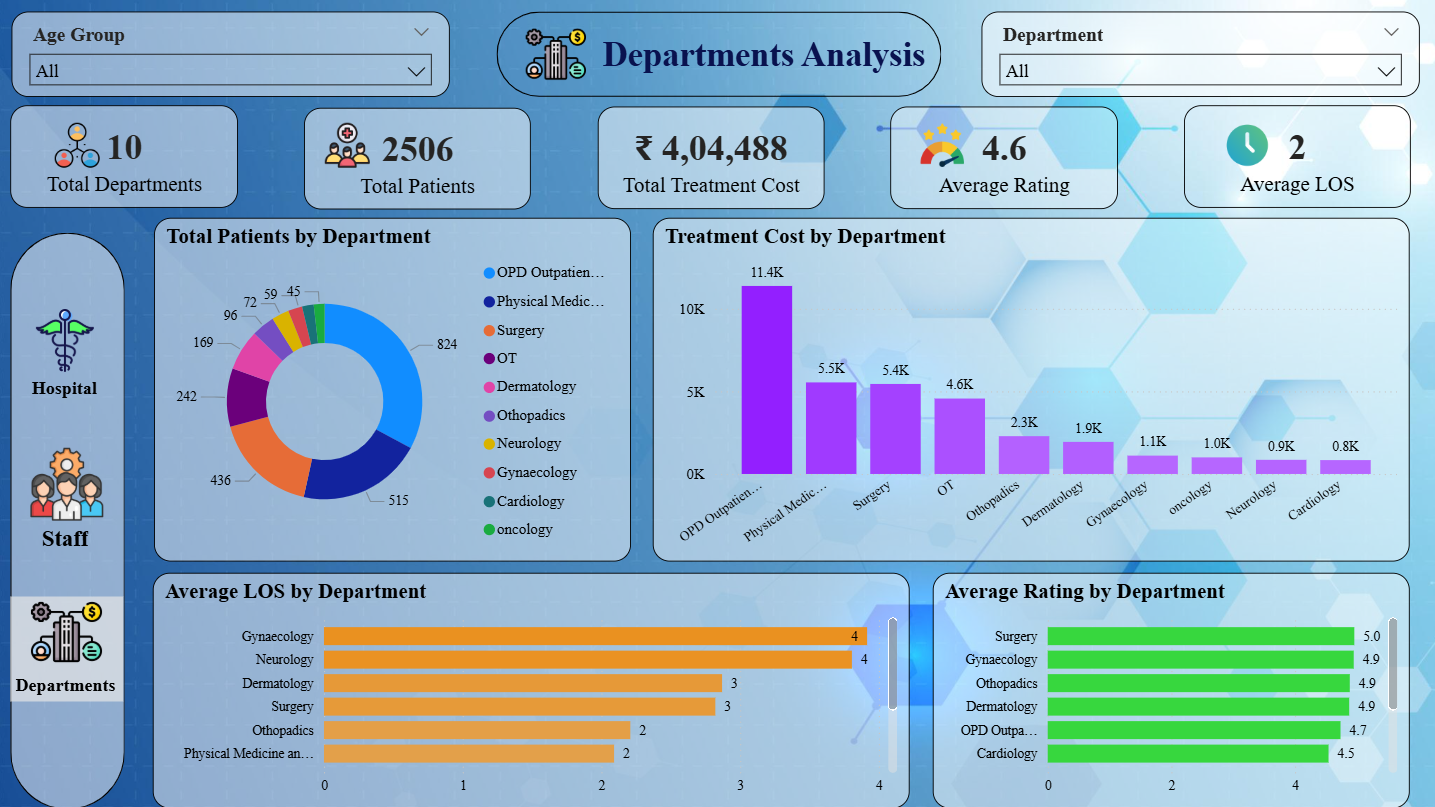

Layout of this report page (visuals, bound fields, positions):
{"tool":"powerbi","page":{"name":"Departments Analysis","canvas":[1280,720],"ordinal":2},"visuals":[{"type":"shape","box":[442.2,10.7,395.6,75.8],"z":0,"group":"g5"},{"type":"group","id":"g1","title":"Group 2","box":[8.9,207.3,102.4,512.8],"z":0},{"type":"shape","box":[9.5,207.3,101.9,512.8],"z":0,"group":"g1"},{"type":"shape","box":[9.5,331.6,98.3,29.6],"z":0,"group":"g3"},{"type":"card","fields":{"Values":["Measure.Total Patients"]},"box":[270.9,96.7,201.6,90.7],"z":1000,"group":"g6"},{"type":"donutChart","title":"Total Patients by Department","fields":{"Category":["Department.Department_Name"],"Y":["Measure.Total Patients"]},"box":[137.4,194.2,424,305.6],"z":1000},{"type":"image","box":[8.3,275.9,101.9,55.7],"z":1000,"group":"g3"},{"type":"group","id":"g2","title":"Group 5","box":[10.2,530.3,99.5,93.6],"z":1000,"group":"g1"},{"type":"card","fields":{"Values":["Measure.Average Rating"]},"box":[791.5,96.2,202.5,91.3],"z":2000,"group":"g6"},{"type":"group","id":"g3","title":"Group 3","box":[8.3,275.9,101.9,85.3],"z":2000},{"type":"group","id":"g4","title":"Group 4","box":[8.9,398.9,100.7,100.7],"z":2000,"group":"g1"},{"type":"slicer","fields":{"Values":["Detail data dataset.Age Group"]},"box":[10.7,10.7,389.6,75.8],"z":3000},{"type":"card","fields":{"Values":["Measure.Total Departments"]},"box":[9.5,94.7,202.5,91.3],"z":3000,"group":"g6"},{"type":"group","id":"g5","title":"Group 1","box":[442.2,10.7,395.6,75.8],"z":4000},{"type":"card","fields":{"Values":["Measure.Average LOS"]},"box":[1052.9,94.7,201.3,91.3],"z":4000,"group":"g6"},{"type":"card","fields":{"Values":["Measure.Total Treatment Cost"]},"box":[531.3,96.2,201.3,91.3],"z":5000,"group":"g6"},{"type":"columnChart","title":"Treatment Cost by Department","fields":{"Y":["Sum(Detail data dataset.treatemencost)"],"Category":["Department.Department_Name"]},"box":[581.5,194.2,672.7,305.6],"z":5000},{"type":"image","box":[11.2,398.9,98.3,64.6],"z":5000,"group":"g4"},{"type":"group","id":"g6","title":"Group 6","box":[9.5,94.7,1244.7,91.2],"z":6000},{"type":"image","box":[458.3,21.4,74.6,53.3],"z":7000,"group":"g5"},{"type":"barChart","title":"Average Rating by Department","fields":{"Category":["Department.Department_Name"],"Y":["Measure.Average Rating"]},"box":[830.2,510.4,424,209.6],"z":7000},{"type":"image","box":[10.2,530.3,99.5,63.3],"z":7000,"group":"g2"},{"type":"barChart","title":"Average LOS by Department","fields":{"Category":["Department.Department_Name"],"Y":["Measure.Average LOS"]},"box":[136.2,510.4,672.7,209.6],"z":8000},{"type":"slicer","fields":{"Values":["Department.Department_Name"]},"box":[872.8,10.7,389.6,75.8],"z":9000},{"type":"shape","box":[8.9,468.4,99.5,31],"z":9000,"group":"g4"},{"type":"image","box":[30.8,110.1,77,40.3],"z":9001},{"type":"image","box":[279.5,110.1,59.2,40.3],"z":9002},{"type":"image","box":[808.9,110.1,59.2,40.3],"z":9003},{"type":"image","box":[1080.1,110.1,59.2,40.3],"z":9004},{"type":"shape","box":[10.2,593.6,98.3,31],"z":11000,"group":"g2"}]}

Visuals, with their boxes in screenshot pixels (x1, y1, x2, y2), scaled from the page's 1280x720 canvas onto the 1435x807 screenshot:
shape: <region>496, 12, 939, 97</region>
"Group 2" group: <region>10, 232, 125, 806</region>
shape: <region>11, 232, 125, 806</region>
shape: <region>11, 372, 121, 405</region>
card - Measure.Total Patients: <region>304, 108, 530, 210</region>
"Total Patients by Department" donutChart: <region>154, 218, 629, 560</region>
image: <region>9, 309, 124, 372</region>
"Group 5" group: <region>11, 594, 123, 699</region>
card - Measure.Average Rating: <region>887, 108, 1114, 210</region>
"Group 3" group: <region>9, 309, 124, 405</region>
"Group 4" group: <region>10, 447, 123, 560</region>
slicer - Detail data dataset.Age Group: <region>12, 12, 449, 97</region>
card - Measure.Total Departments: <region>11, 106, 238, 208</region>
"Group 1" group: <region>496, 12, 939, 97</region>
card - Measure.Average LOS: <region>1180, 106, 1406, 208</region>
card - Measure.Total Treatment Cost: <region>596, 108, 821, 210</region>
"Treatment Cost by Department" columnChart: <region>652, 218, 1406, 560</region>
image: <region>13, 447, 123, 520</region>
"Group 6" group: <region>11, 106, 1406, 208</region>
image: <region>514, 24, 597, 84</region>
"Average Rating by Department" barChart: <region>931, 572, 1406, 806</region>
image: <region>11, 594, 123, 665</region>
"Average LOS by Department" barChart: <region>153, 572, 907, 806</region>
slicer - Department.Department_Name: <region>978, 12, 1415, 97</region>
shape: <region>10, 525, 122, 560</region>
image: <region>35, 123, 121, 169</region>
image: <region>313, 123, 380, 169</region>
image: <region>907, 123, 973, 169</region>
image: <region>1211, 123, 1277, 169</region>
shape: <region>11, 665, 122, 700</region>
